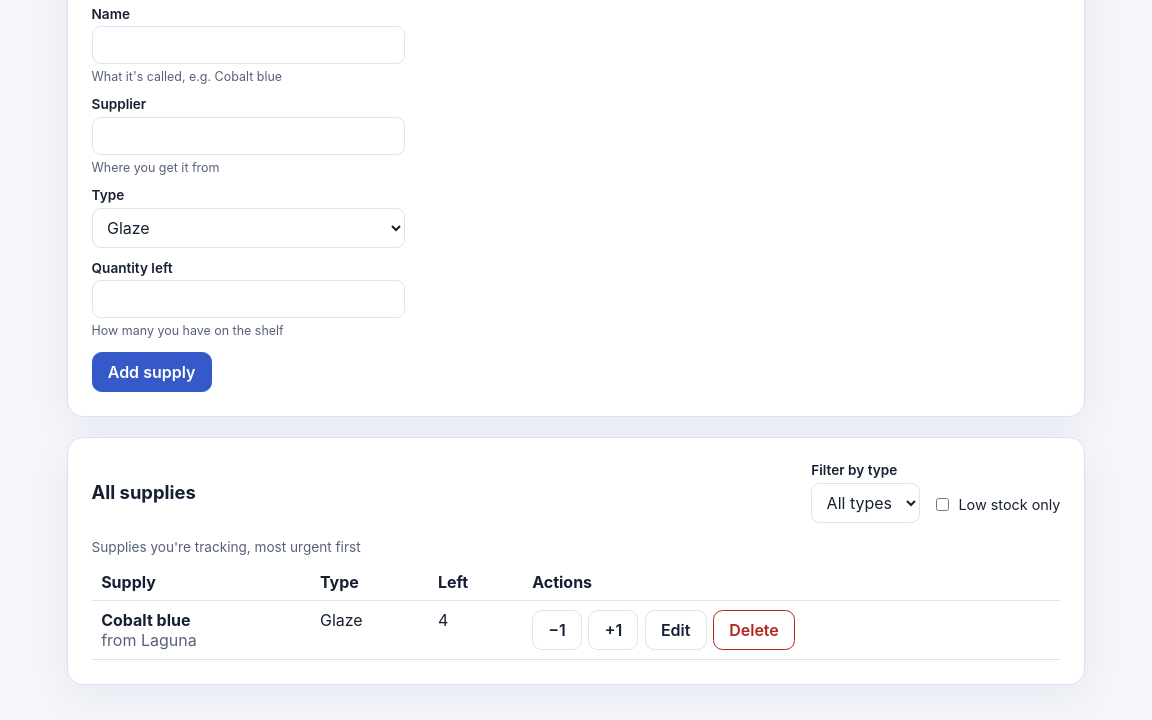
Test: supply register › adjusts the quantity with the quick +1 and −1 buttons
(page scrolled)
Click the button named "Use one Cobalt blue": (557, 630) [532, 610, 582, 650]
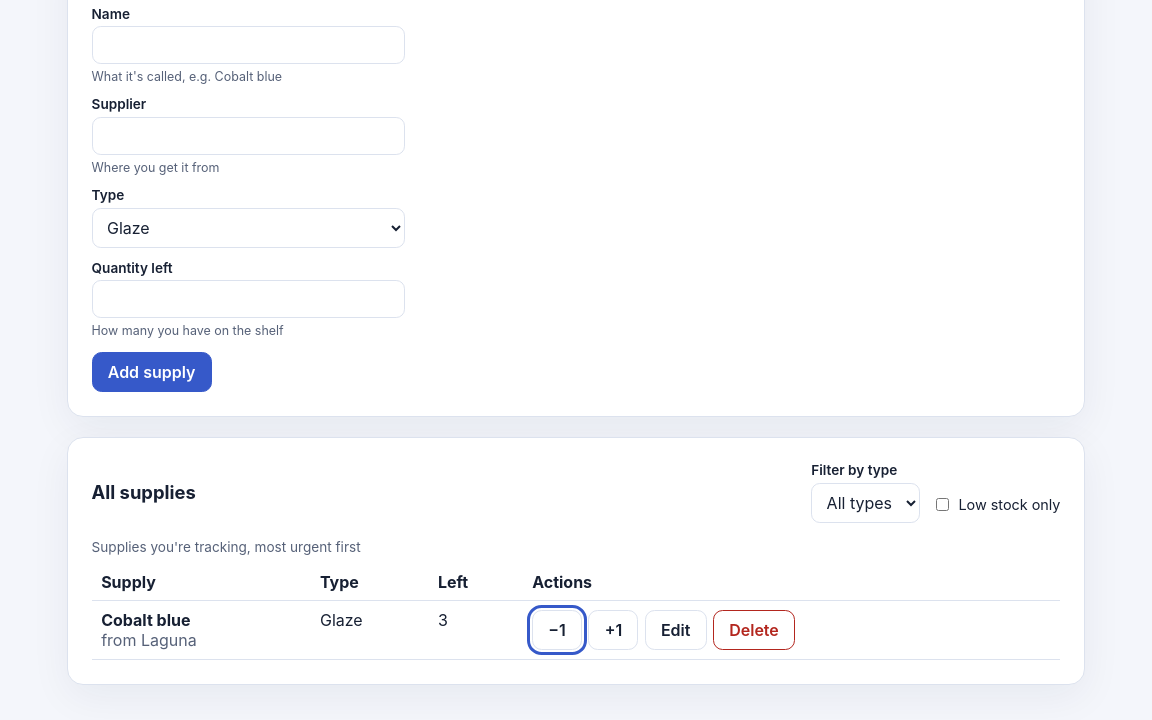
Check: the table shows "3", box [438, 610, 448, 630]
Click the button named "Add one Cobalt blue": (613, 630) [588, 610, 638, 650]
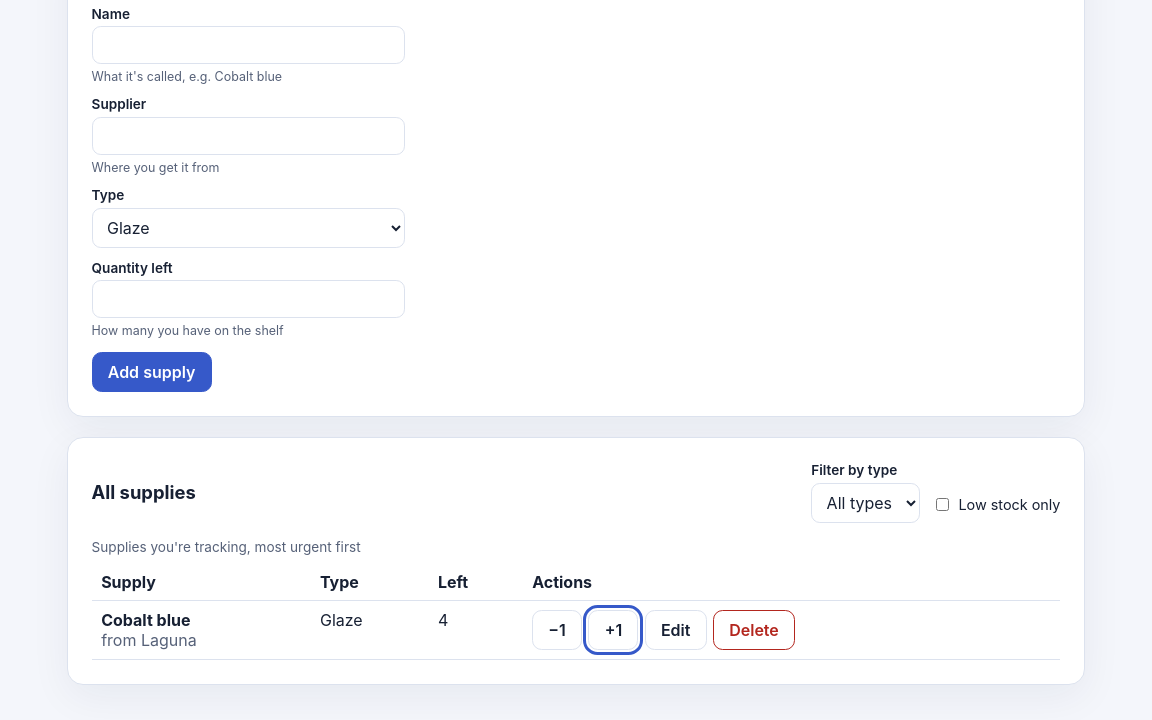
Check: the table shows "4", box [438, 610, 448, 630]
